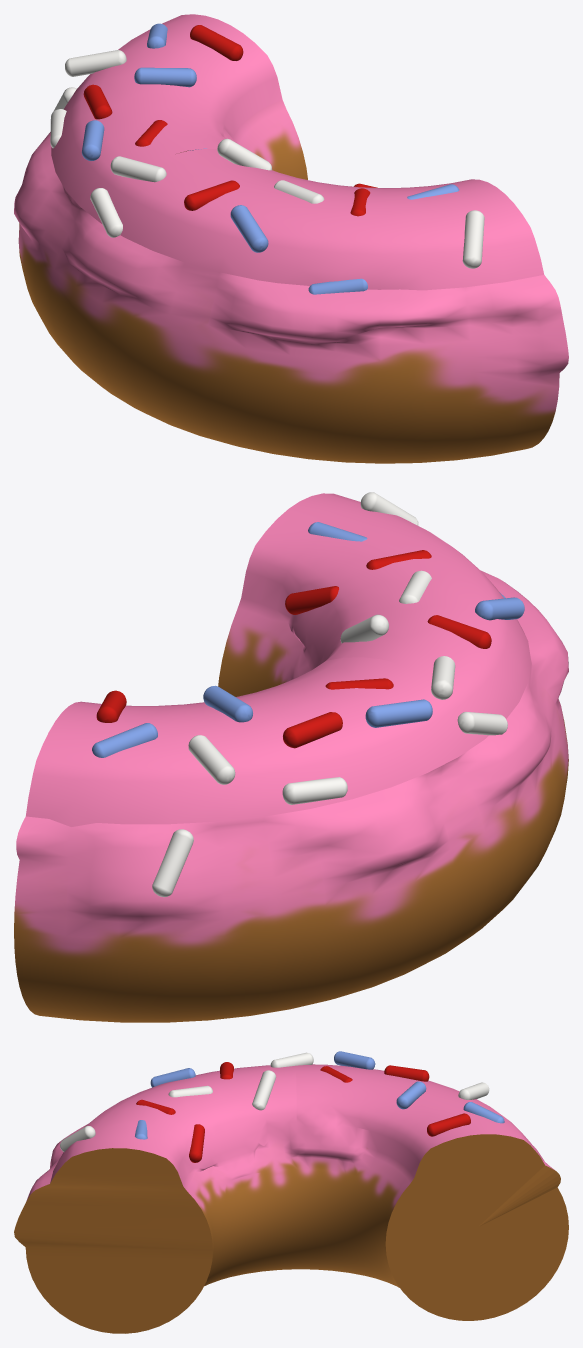
The model's file is donut2_LOD1.fbx.
The picture shows the model from 3 angles, top to bottom: view 1: azimuth 30°, elevation 25°; view 2: azimuth 150°, elevation 25°; view 3: azimuth 270°, elevation 25°; orthographic projection. The views are drawn at different scales.
Parts seen in each view (by area): view 1: pTorus1; view 2: pTorus1; view 3: pTorus1.
Boxes of the visible parts, x1,y1,x2,y2 form: pTorus1: (14,14,568,463); pTorus1: (14,492,568,1022); pTorus1: (14,1051,568,1333).
Size of the model in its own units: 108 by 88 by 221.
1 material, 1 textured.
